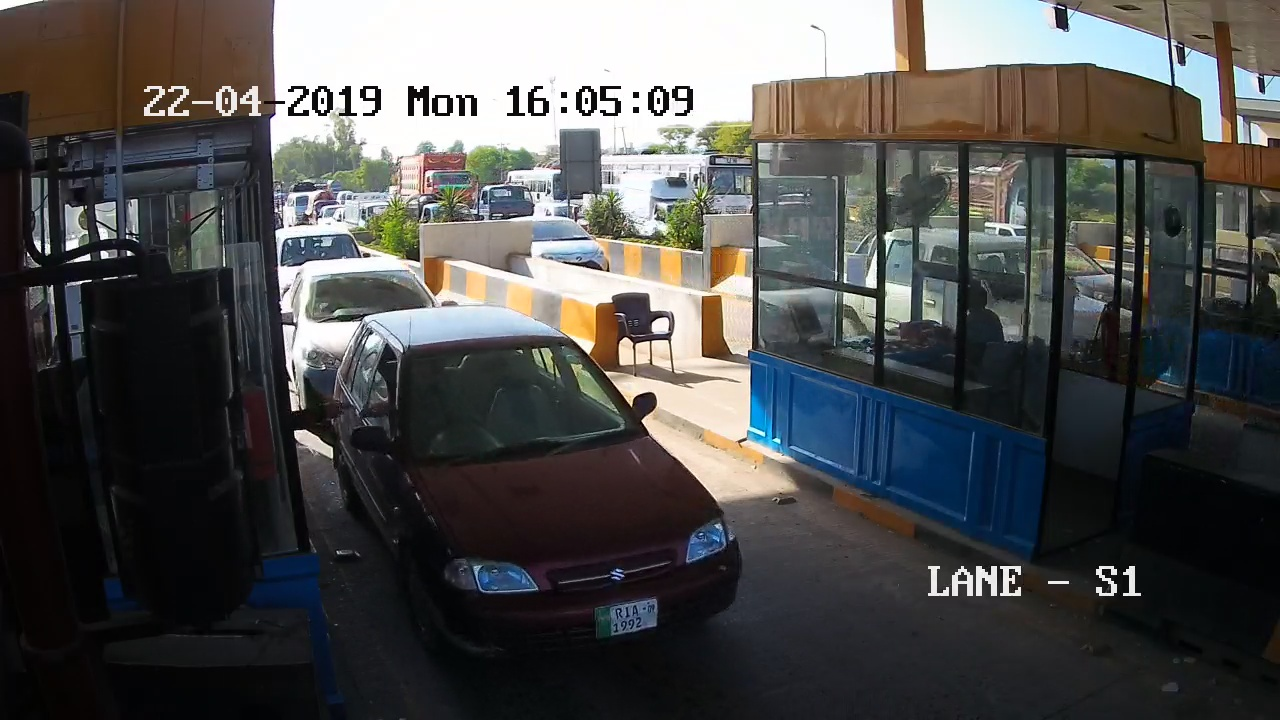Number Plate (Car): (595, 601, 659, 631)
